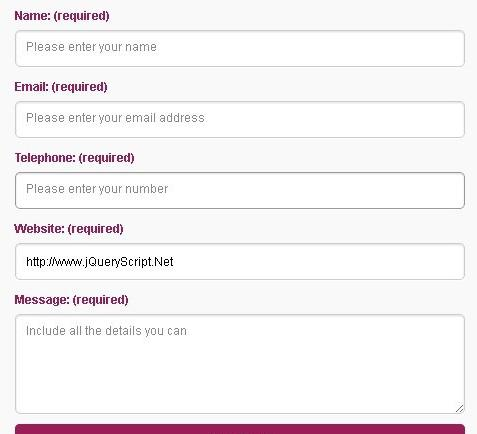field: (13, 312, 466, 417), (12, 170, 466, 211), (11, 241, 467, 281), (14, 28, 467, 68), (13, 99, 466, 139)
field_with_label: (10, 293, 468, 420), (10, 222, 470, 284), (10, 152, 467, 213), (12, 81, 468, 141), (12, 9, 467, 69)
